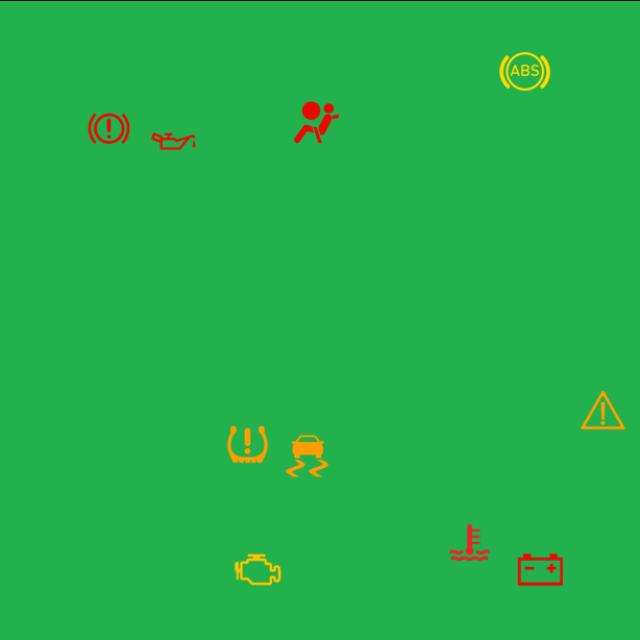Anti Lock Braking System: (498, 43, 552, 98)
Braking System Issue: (82, 100, 136, 155)
Charging System Issue: (513, 541, 568, 596)
Check Engine: (230, 541, 286, 596)
Electronic Stability Problem -ESP-: (280, 428, 334, 482)
Engine Overheating Warning Light: (442, 514, 497, 569)
Low Engine Oil Warning Light: (146, 112, 201, 168)
Low Tire Pressure Warning Light: (220, 416, 275, 471)
Master warning light: (576, 382, 630, 436)
SRS-Airbag: (289, 94, 344, 149)
